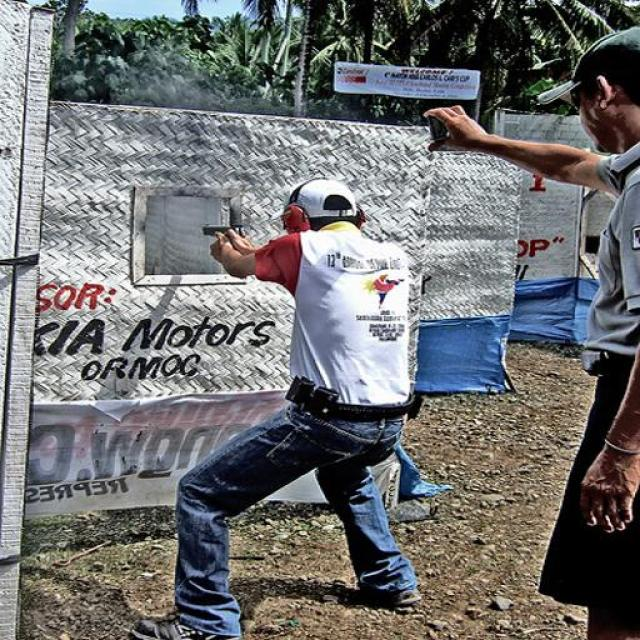pistol: (201, 223, 246, 248)
